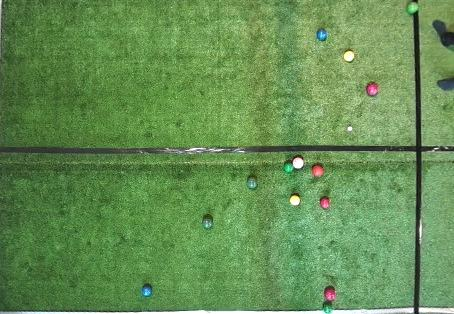blue: (317, 29, 327, 41), (142, 285, 152, 297)
green: (406, 1, 419, 14), (246, 177, 258, 189), (202, 217, 213, 228), (322, 302, 333, 313), (283, 163, 294, 172)
red: (366, 83, 379, 96), (324, 288, 336, 300), (312, 165, 324, 177), (292, 157, 304, 169), (320, 198, 330, 209)
vline: (413, 15, 453, 313), (0, 0, 6, 313)
white: (347, 126, 353, 131)
yellow: (290, 195, 300, 205), (344, 51, 354, 61)
